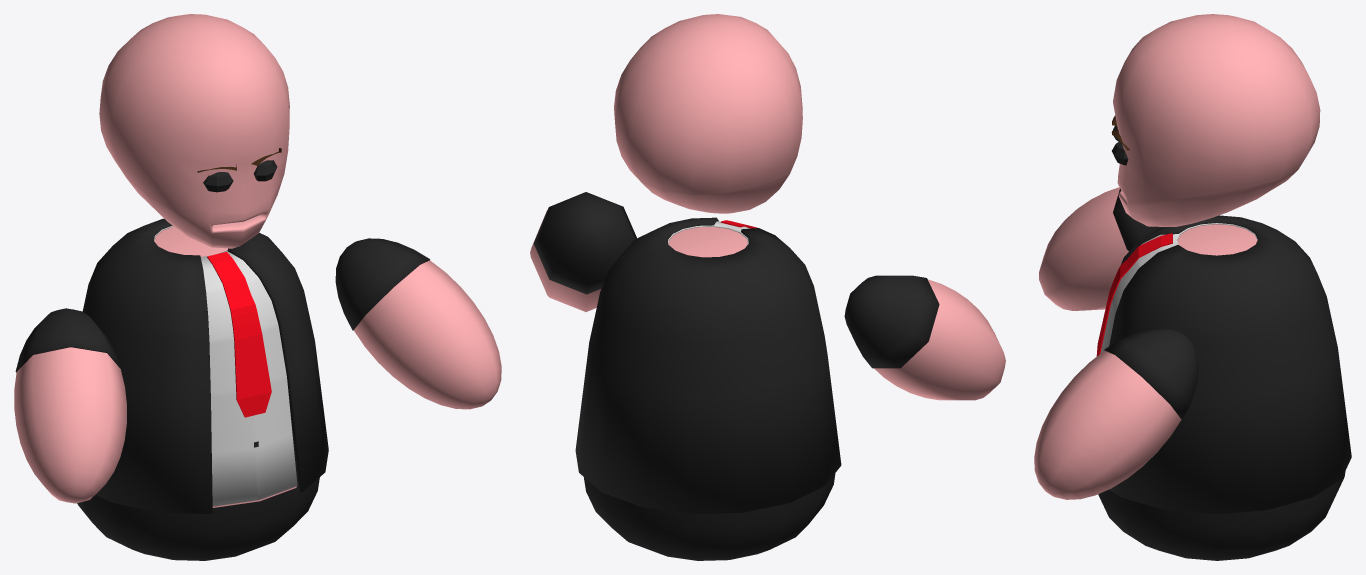
The model's file is terrier.fbx.
3 renders of one model, left to right at view 1: azimuth 30°, elevation 25°; view 2: azimuth 150°, elevation 25°; view 3: azimuth 270°, elevation 25°, orthographic.
Visible parts, largest first — view 1: clothes, terrier; view 2: clothes, terrier; view 3: clothes, terrier.
Part boxes in pixels (x1,y1,x2,y2): clothes: [15, 218, 429, 560]; terrier: [14, 14, 501, 507]; clothes: [533, 192, 939, 560]; terrier: [530, 14, 1005, 400]; clothes: [1096, 188, 1351, 560]; terrier: [1034, 14, 1320, 499].
Bounding box in the file's own units: 405 × 432 × 245.
